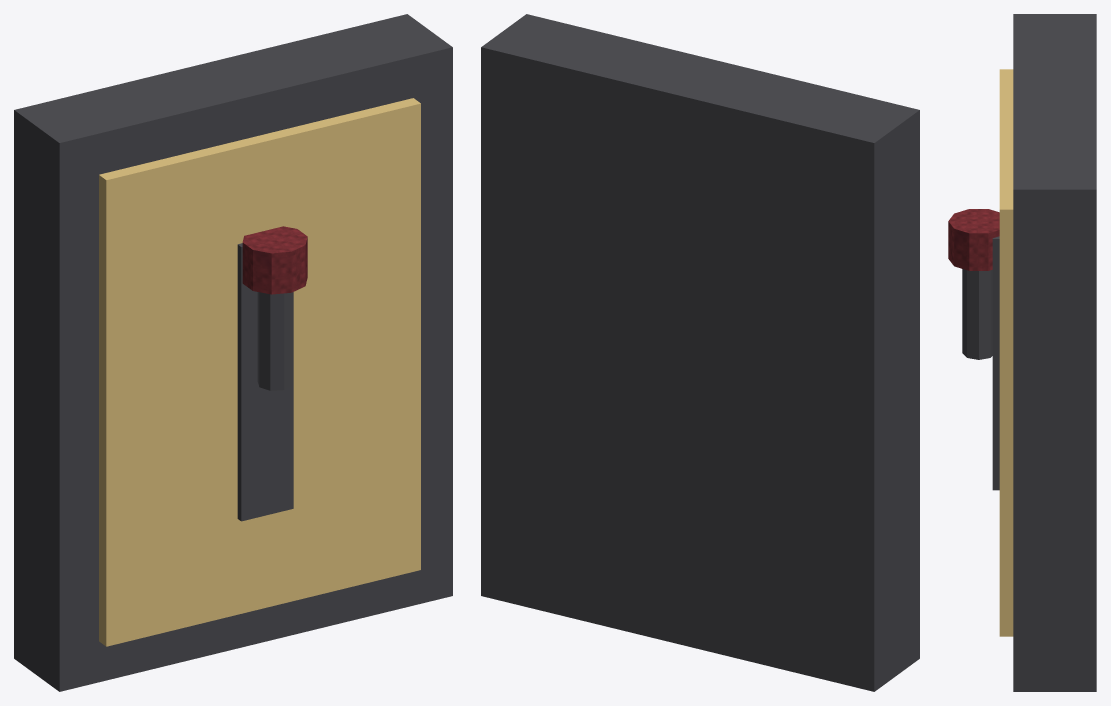
File: INT_Interruptor.fbx
3 renders of one model, left to right at view 1: azimuth 30°, elevation 25°; view 2: azimuth 150°, elevation 25°; view 3: azimuth 270°, elevation 25°, orthographic. The views are drawn at different scales.
Parts seen in each view (by area): view 1: INT_Interruptor, Palanca; view 2: INT_Interruptor; view 3: INT_Interruptor, Palanca.
Boxes of the visible parts, bbox=[...] form: INT_Interruptor: bbox=[14, 14, 452, 691]; Palanca: bbox=[242, 226, 307, 390]; INT_Interruptor: bbox=[481, 14, 919, 691]; INT_Interruptor: bbox=[992, 14, 1096, 691]; Palanca: bbox=[948, 209, 999, 359].
Size of the model in its own units: 0.3 by 0.4 by 0.107.
